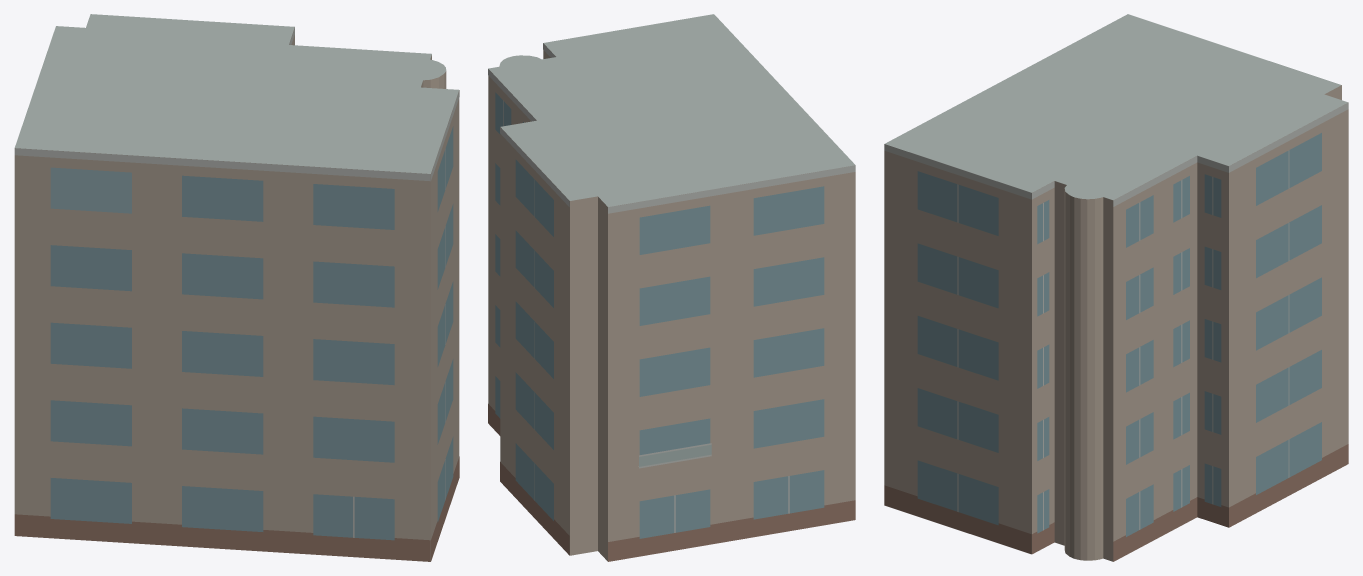
Rendered from survey-upis-33012270.glb.
3 renders of one model, left to right at view 1: azimuth 30°, elevation 25°; view 2: azimuth 150°, elevation 25°; view 3: azimuth 270°, elevation 25°, orthographic. The views are drawn at different scales.
Visible parts, largest first — view 1: survey-upis-33012270.tmp; view 2: survey-upis-33012270.tmp; view 3: survey-upis-33012270.tmp.
Part boxes in pixels (box(x1,y1,x2,y2)): survey-upis-33012270.tmp: box(14, 14, 459, 561); survey-upis-33012270.tmp: box(488, 14, 855, 561); survey-upis-33012270.tmp: box(884, 14, 1348, 561).
Bounding box in the file's own units: 14.49 × 13.1 × 15.25.
